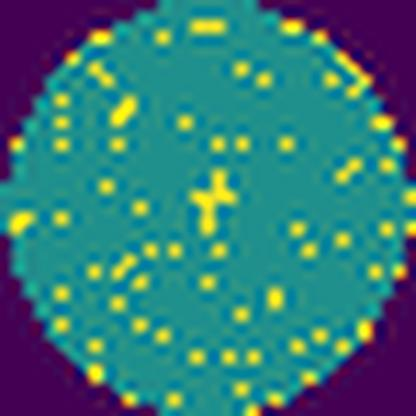Center: (181, 159, 246, 243)
